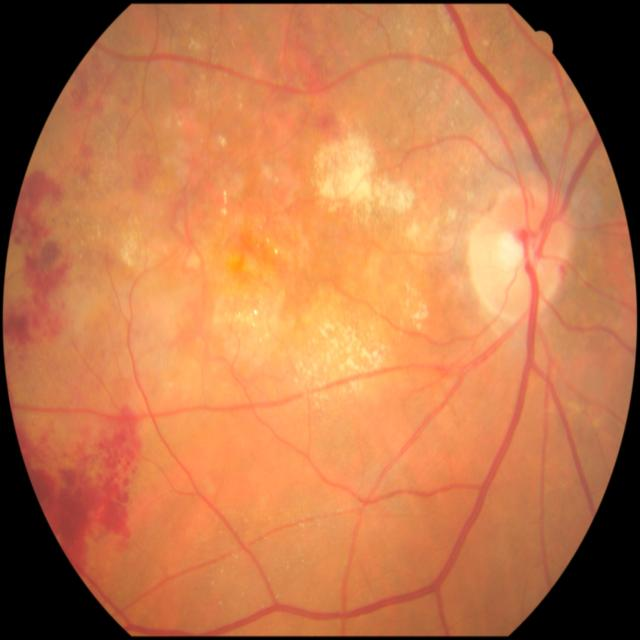OC: (496, 227, 533, 275)
OD: (467, 190, 571, 320)
